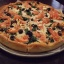olives: (24, 27, 34, 38), (24, 8, 33, 16), (10, 33, 17, 42), (17, 28, 24, 35), (31, 23, 38, 30)
pizza: (1, 2, 63, 53)
